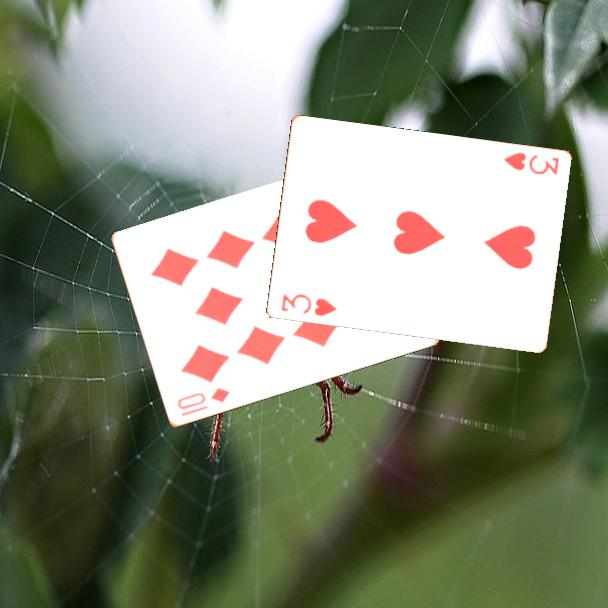d10: (174, 384, 232, 413)
h03: (277, 290, 340, 319), (500, 149, 561, 178)
